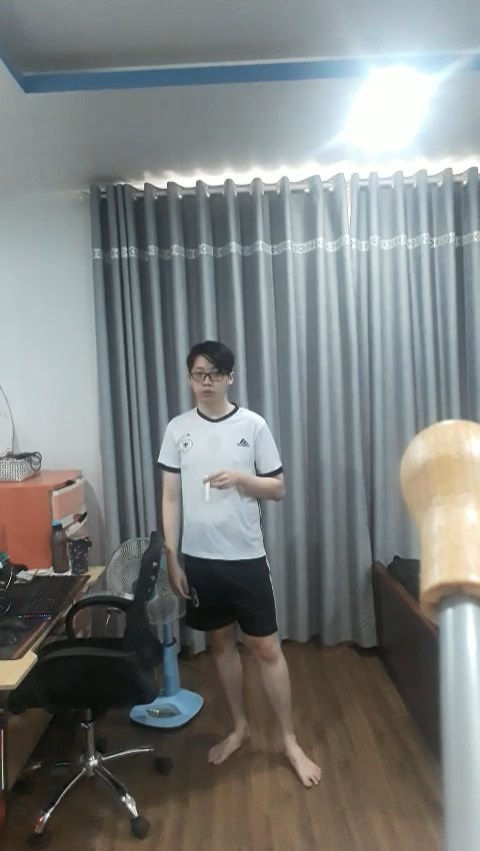cigarette: (203, 475, 211, 499)
person: (147, 334, 331, 797)
